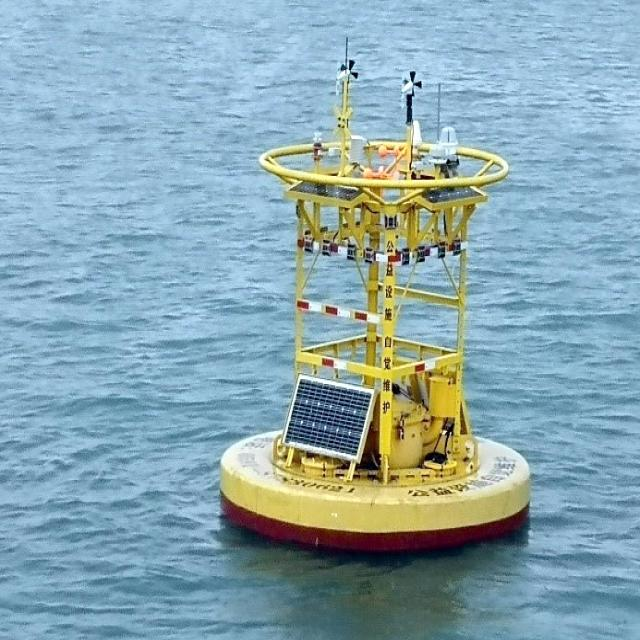buoy: (218, 74, 529, 542)
